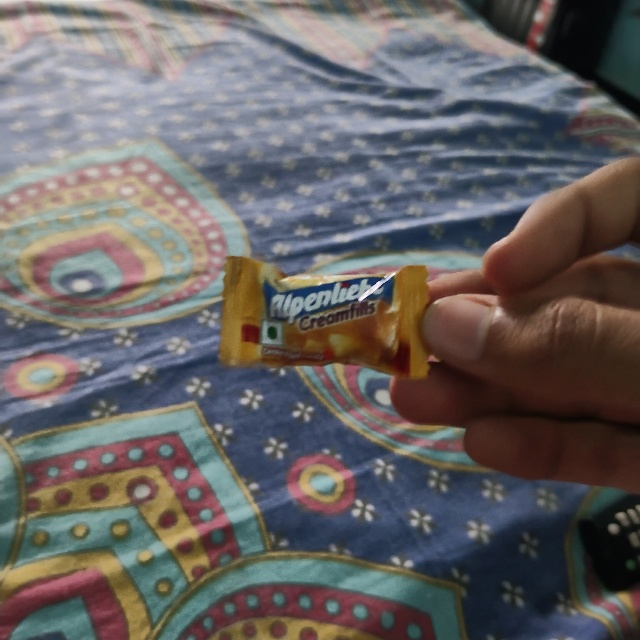Alpenlibe Creamfills: (216, 248, 434, 377)
